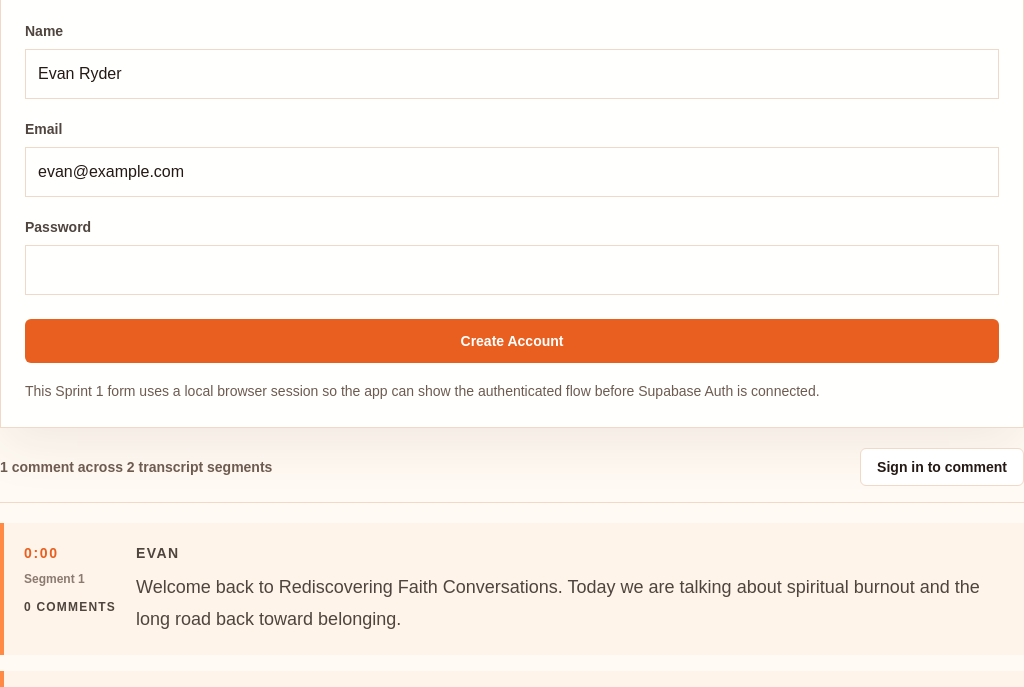
Scenario: EpisodeTranscriptComments › lets a signed-in listener add a comment to one transcript segment
The width and height of the screenshot is (1024, 687).
Replace the text in the field labelled "Name" with "Jordan Lee" at x=512, y=74, box [25,49,999,99]
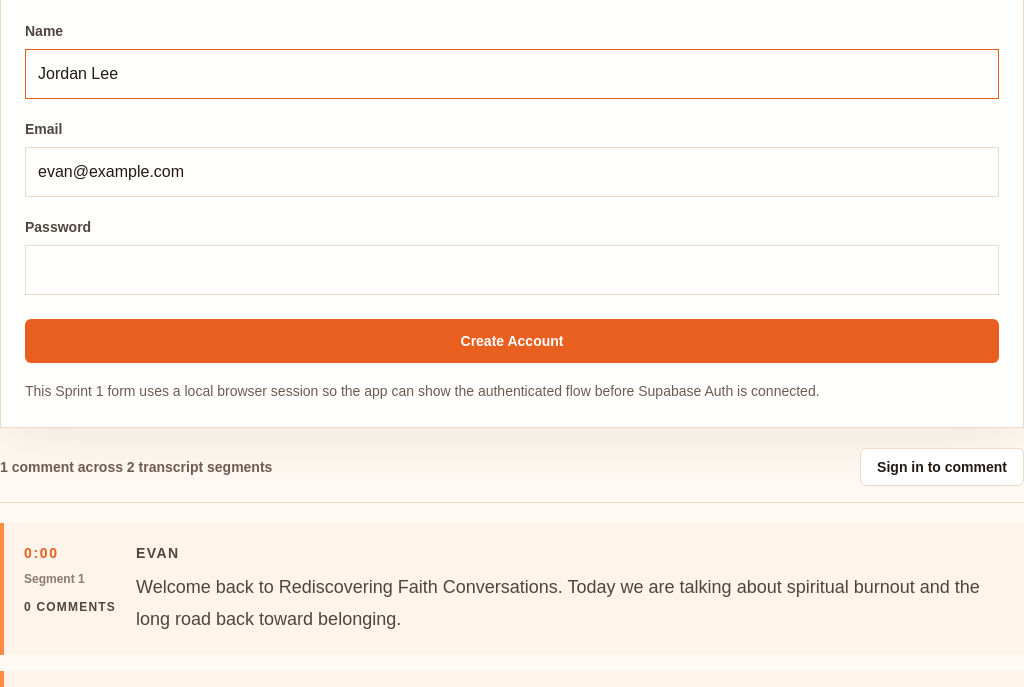
Type "faith-community" into the password field labelled "Password" at x=512, y=270, box [25,245,999,295]
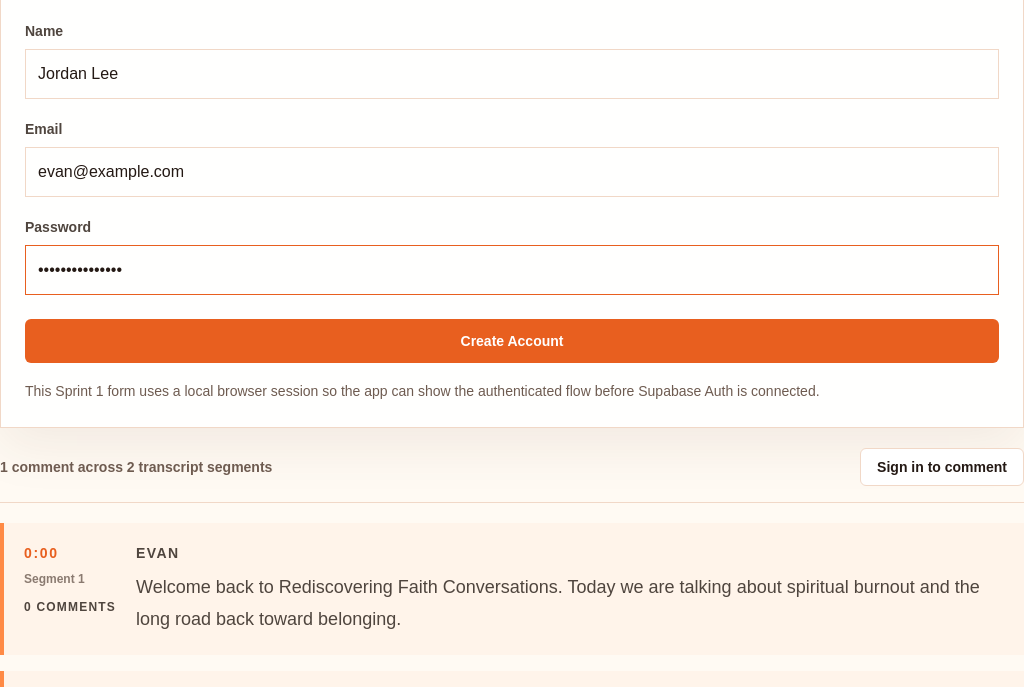
Click the button "Create Account" at x=512, y=341, box [25,319,999,363]
(page scrolled)
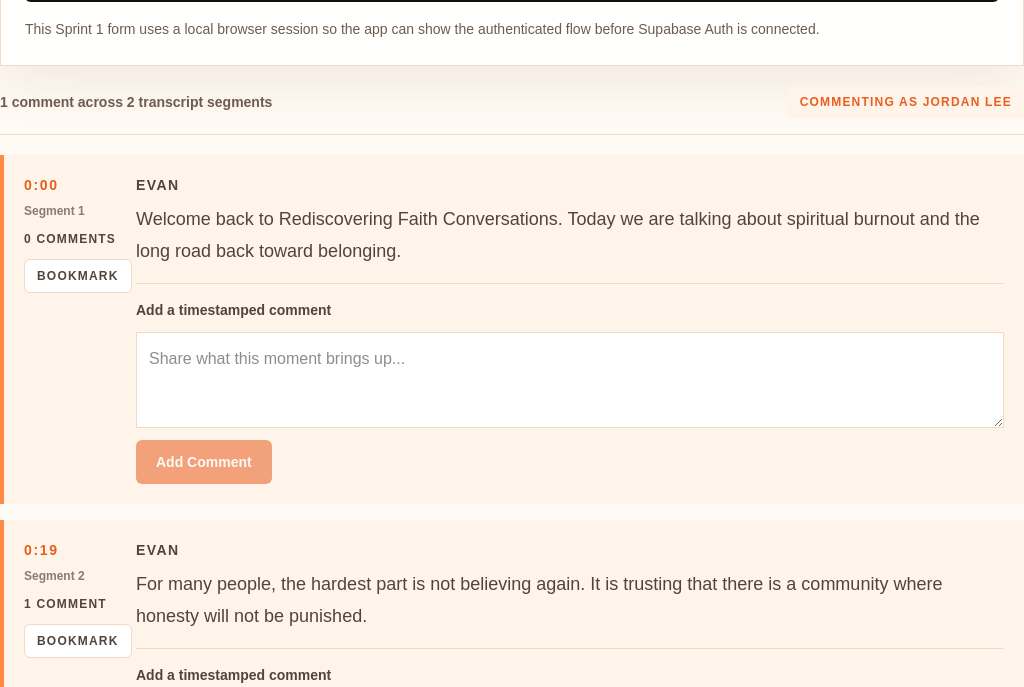
expect the list item "Welcome back to Rediscovering Faith Conversations." is shown: met, box [136,209,980,261]
Type "This opening makes the need for community really clear." into the text box named "Comment on 0:00" at x=570, y=380, box [136,332,1004,428]
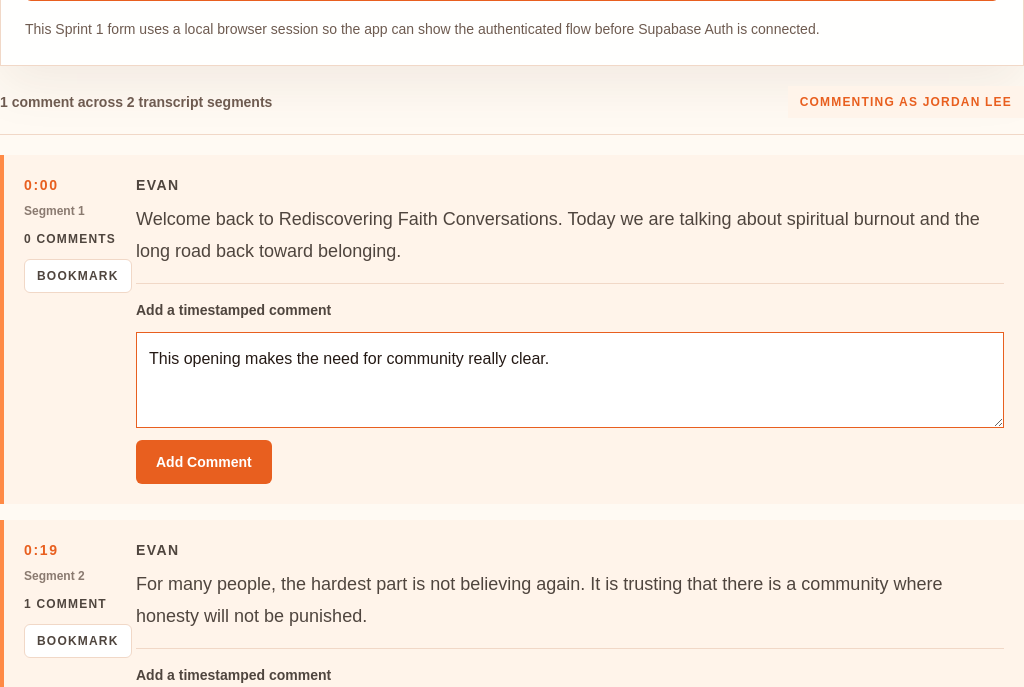
Click the button "Add Comment" at x=204, y=462, box [136,440,272,484]
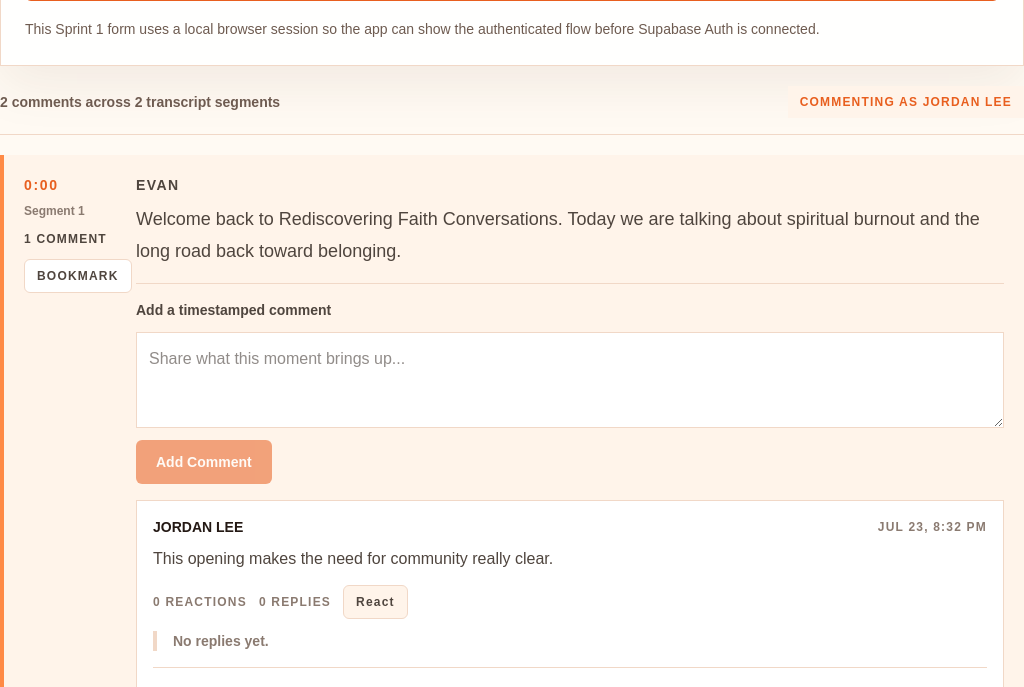
expect the text "This opening makes the need for community really clear." is shown: met, box [153,550,553,567]
expect the text "1 comment" is shown: met, box [24,231,120,247]
expect the text "Jordan Lee" is shown: met, box [153,517,243,537]
